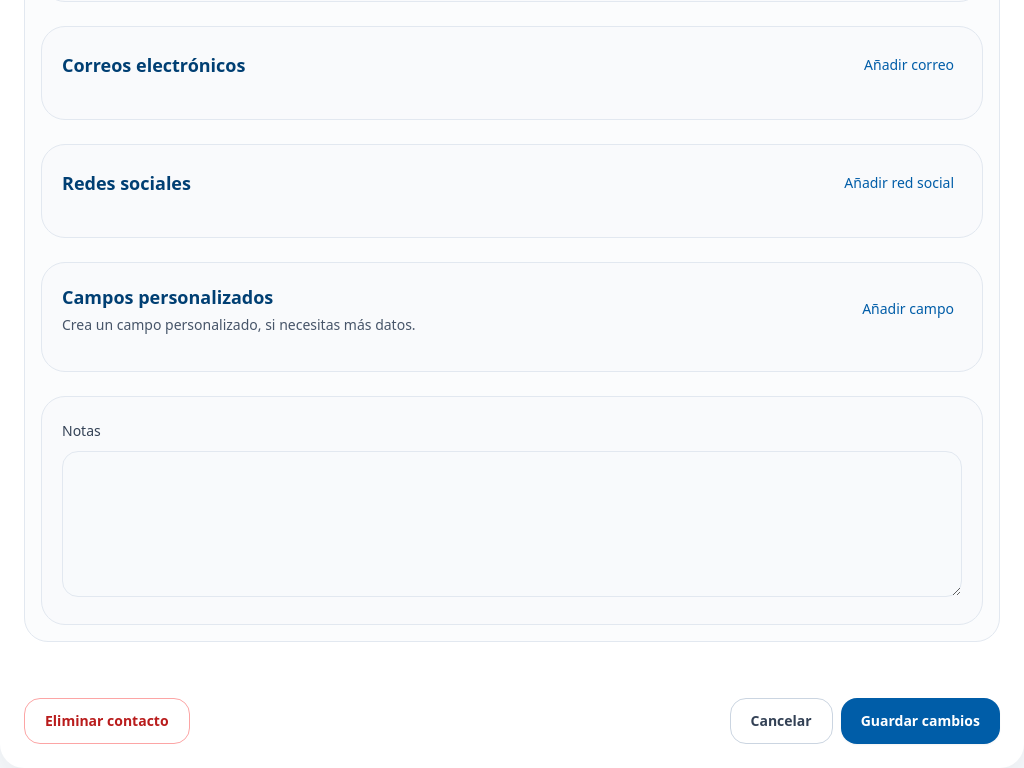
RecordFormPage › confirms deletion before deleting an edited record
(page scrolled)
Click the button "Eliminar contacto": (107, 721) [24, 698, 190, 744]
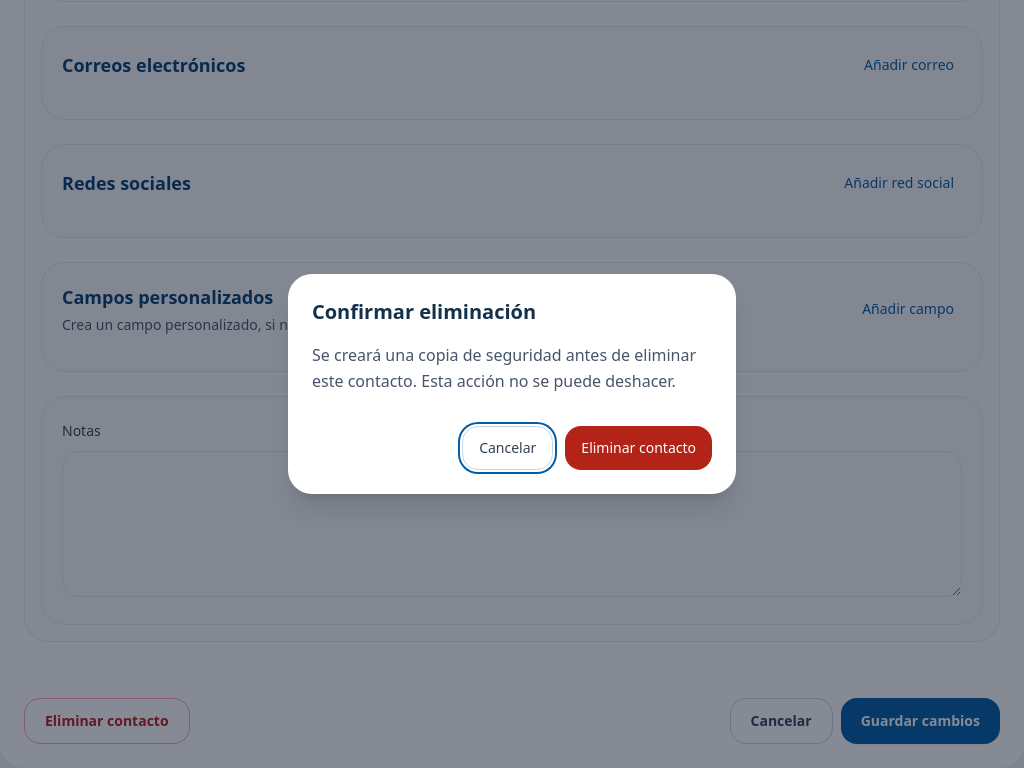
Now the text "Se creará una copia de seguridad antes de eliminar" is shown, box [312, 344, 696, 392]
